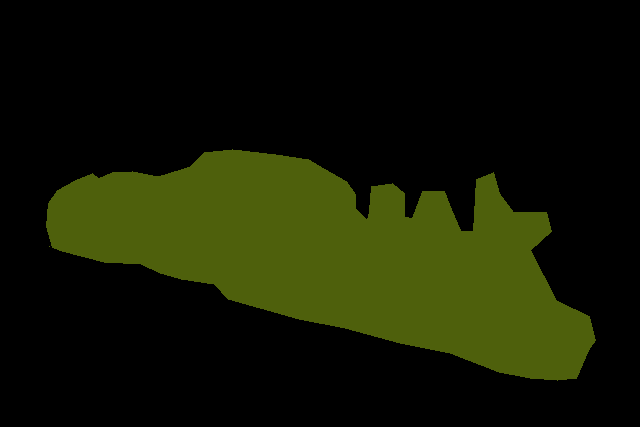Train: (46, 149, 596, 381)
